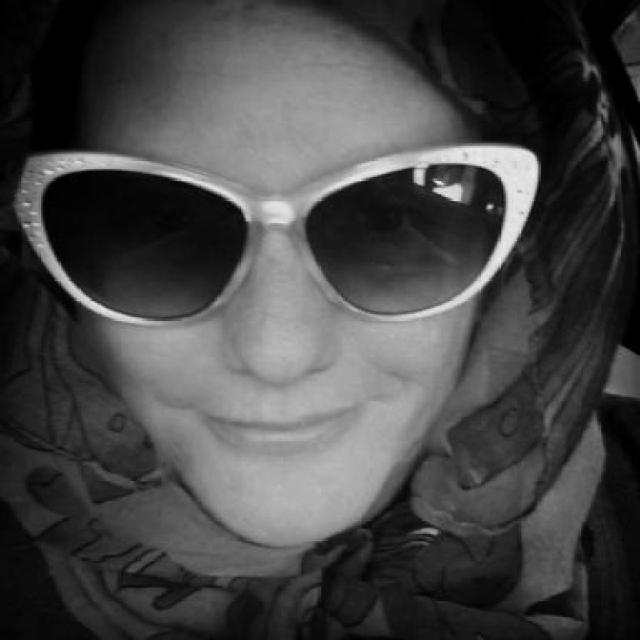face_nomask: (36, 154, 524, 480)
glasses: (0, 133, 548, 332)
